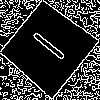I: (23, 23, 68, 63)
